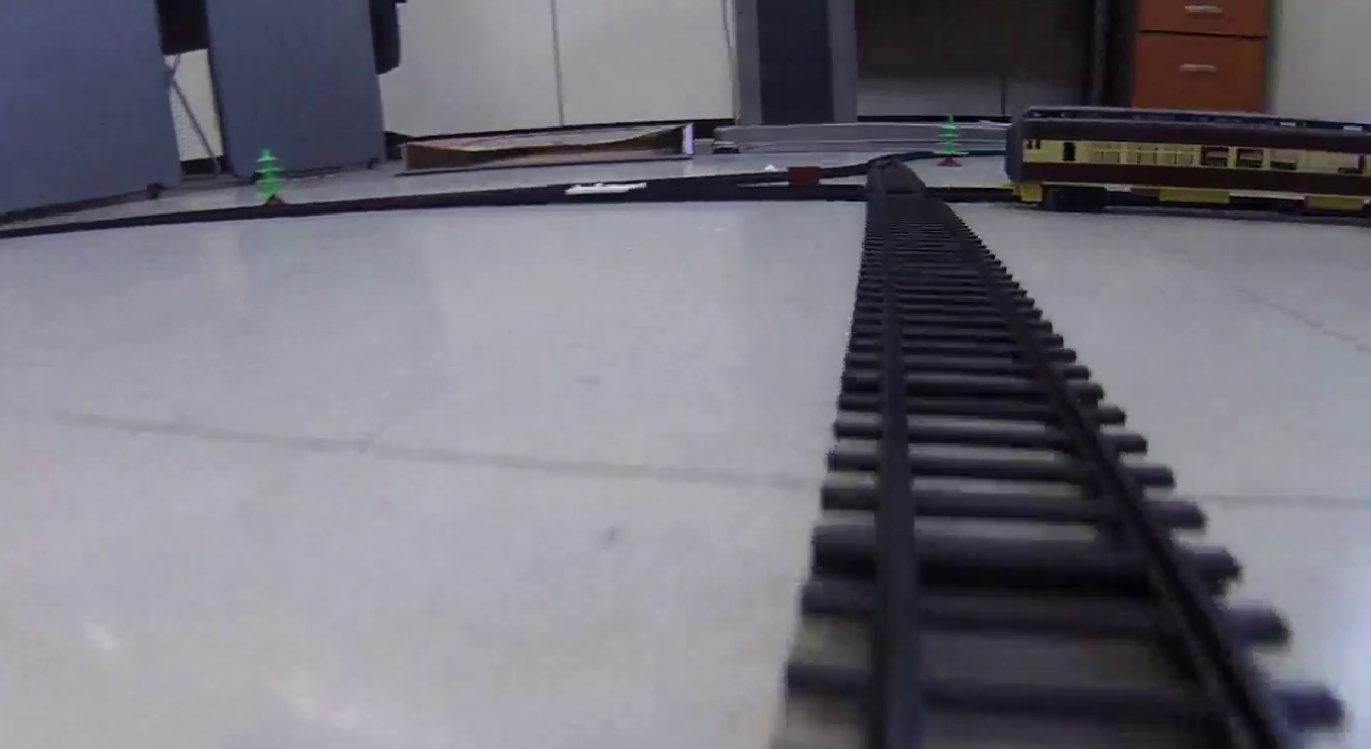tree: (250, 148, 286, 207)
